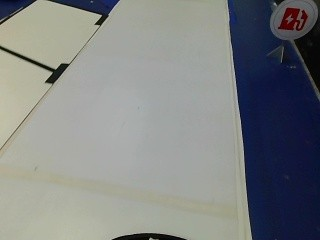battery: (269, 0, 318, 39)
